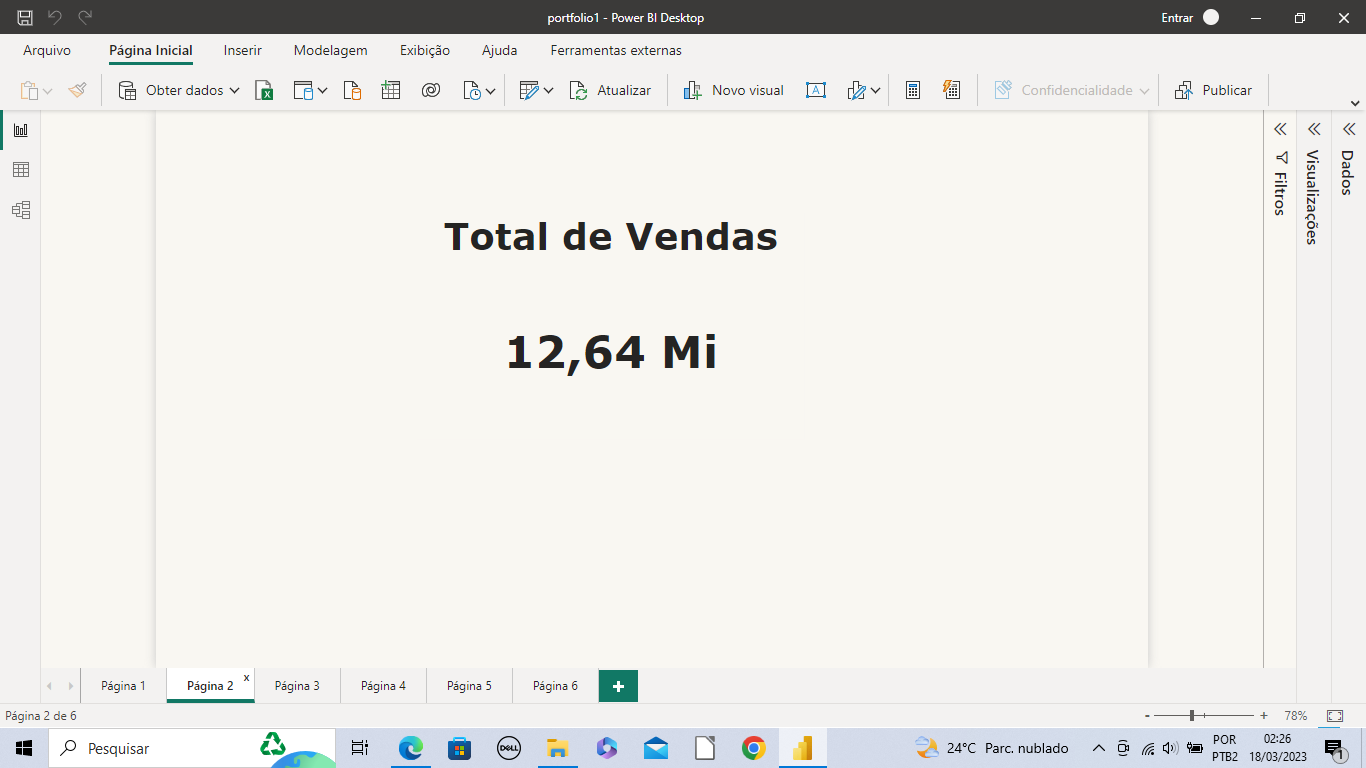

The page's visual inventory and layout, read from the dashboard file:
{"tool":"powerbi","page":{"name":"Página 2","canvas":[1280,720],"ordinal":1},"visuals":[{"type":"card","title":"Total de Vendas","fields":{"Values":["Sum(dataset.Total_Vendas)"]},"box":[337.3,133.2,500.3,292],"z":0}]}

Visuals, with their boxes on the page's 1280x720 design canvas (x1, y1, x2, y2). These are canvas units, not pixel positions in the 1366x768 screenshot, which may show the page scaled, cropped or inside an application window:
"Total de Vendas" card: 337 133 838 425
